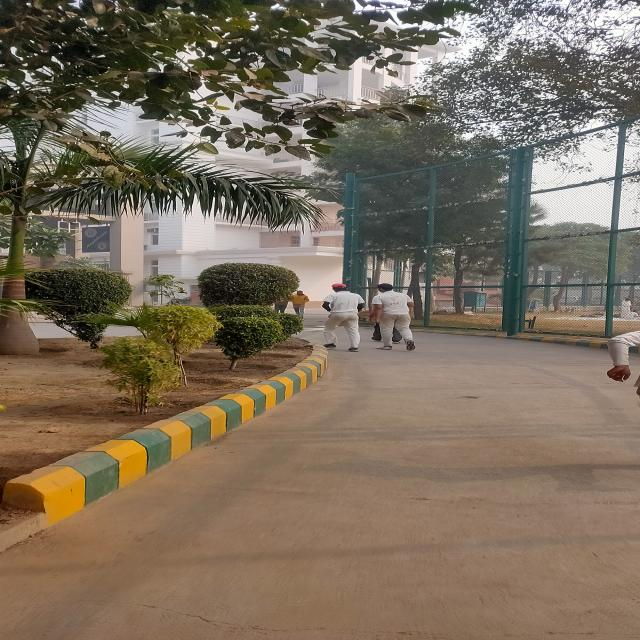unsafe: (369, 284, 418, 352), (320, 284, 362, 351), (292, 291, 309, 318)
